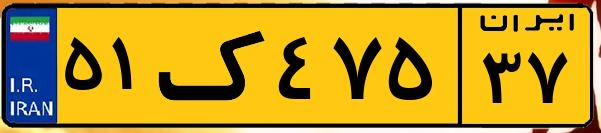1: (110, 28, 158, 98)
3: (475, 38, 525, 113)
4: (270, 28, 330, 110)
5: (385, 28, 445, 110), (57, 26, 110, 100)
7: (330, 28, 385, 110), (525, 38, 570, 115)
ک: (158, 12, 270, 120)
